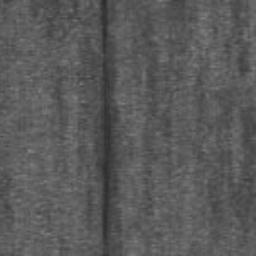Scratches: (96, 0, 113, 255)
